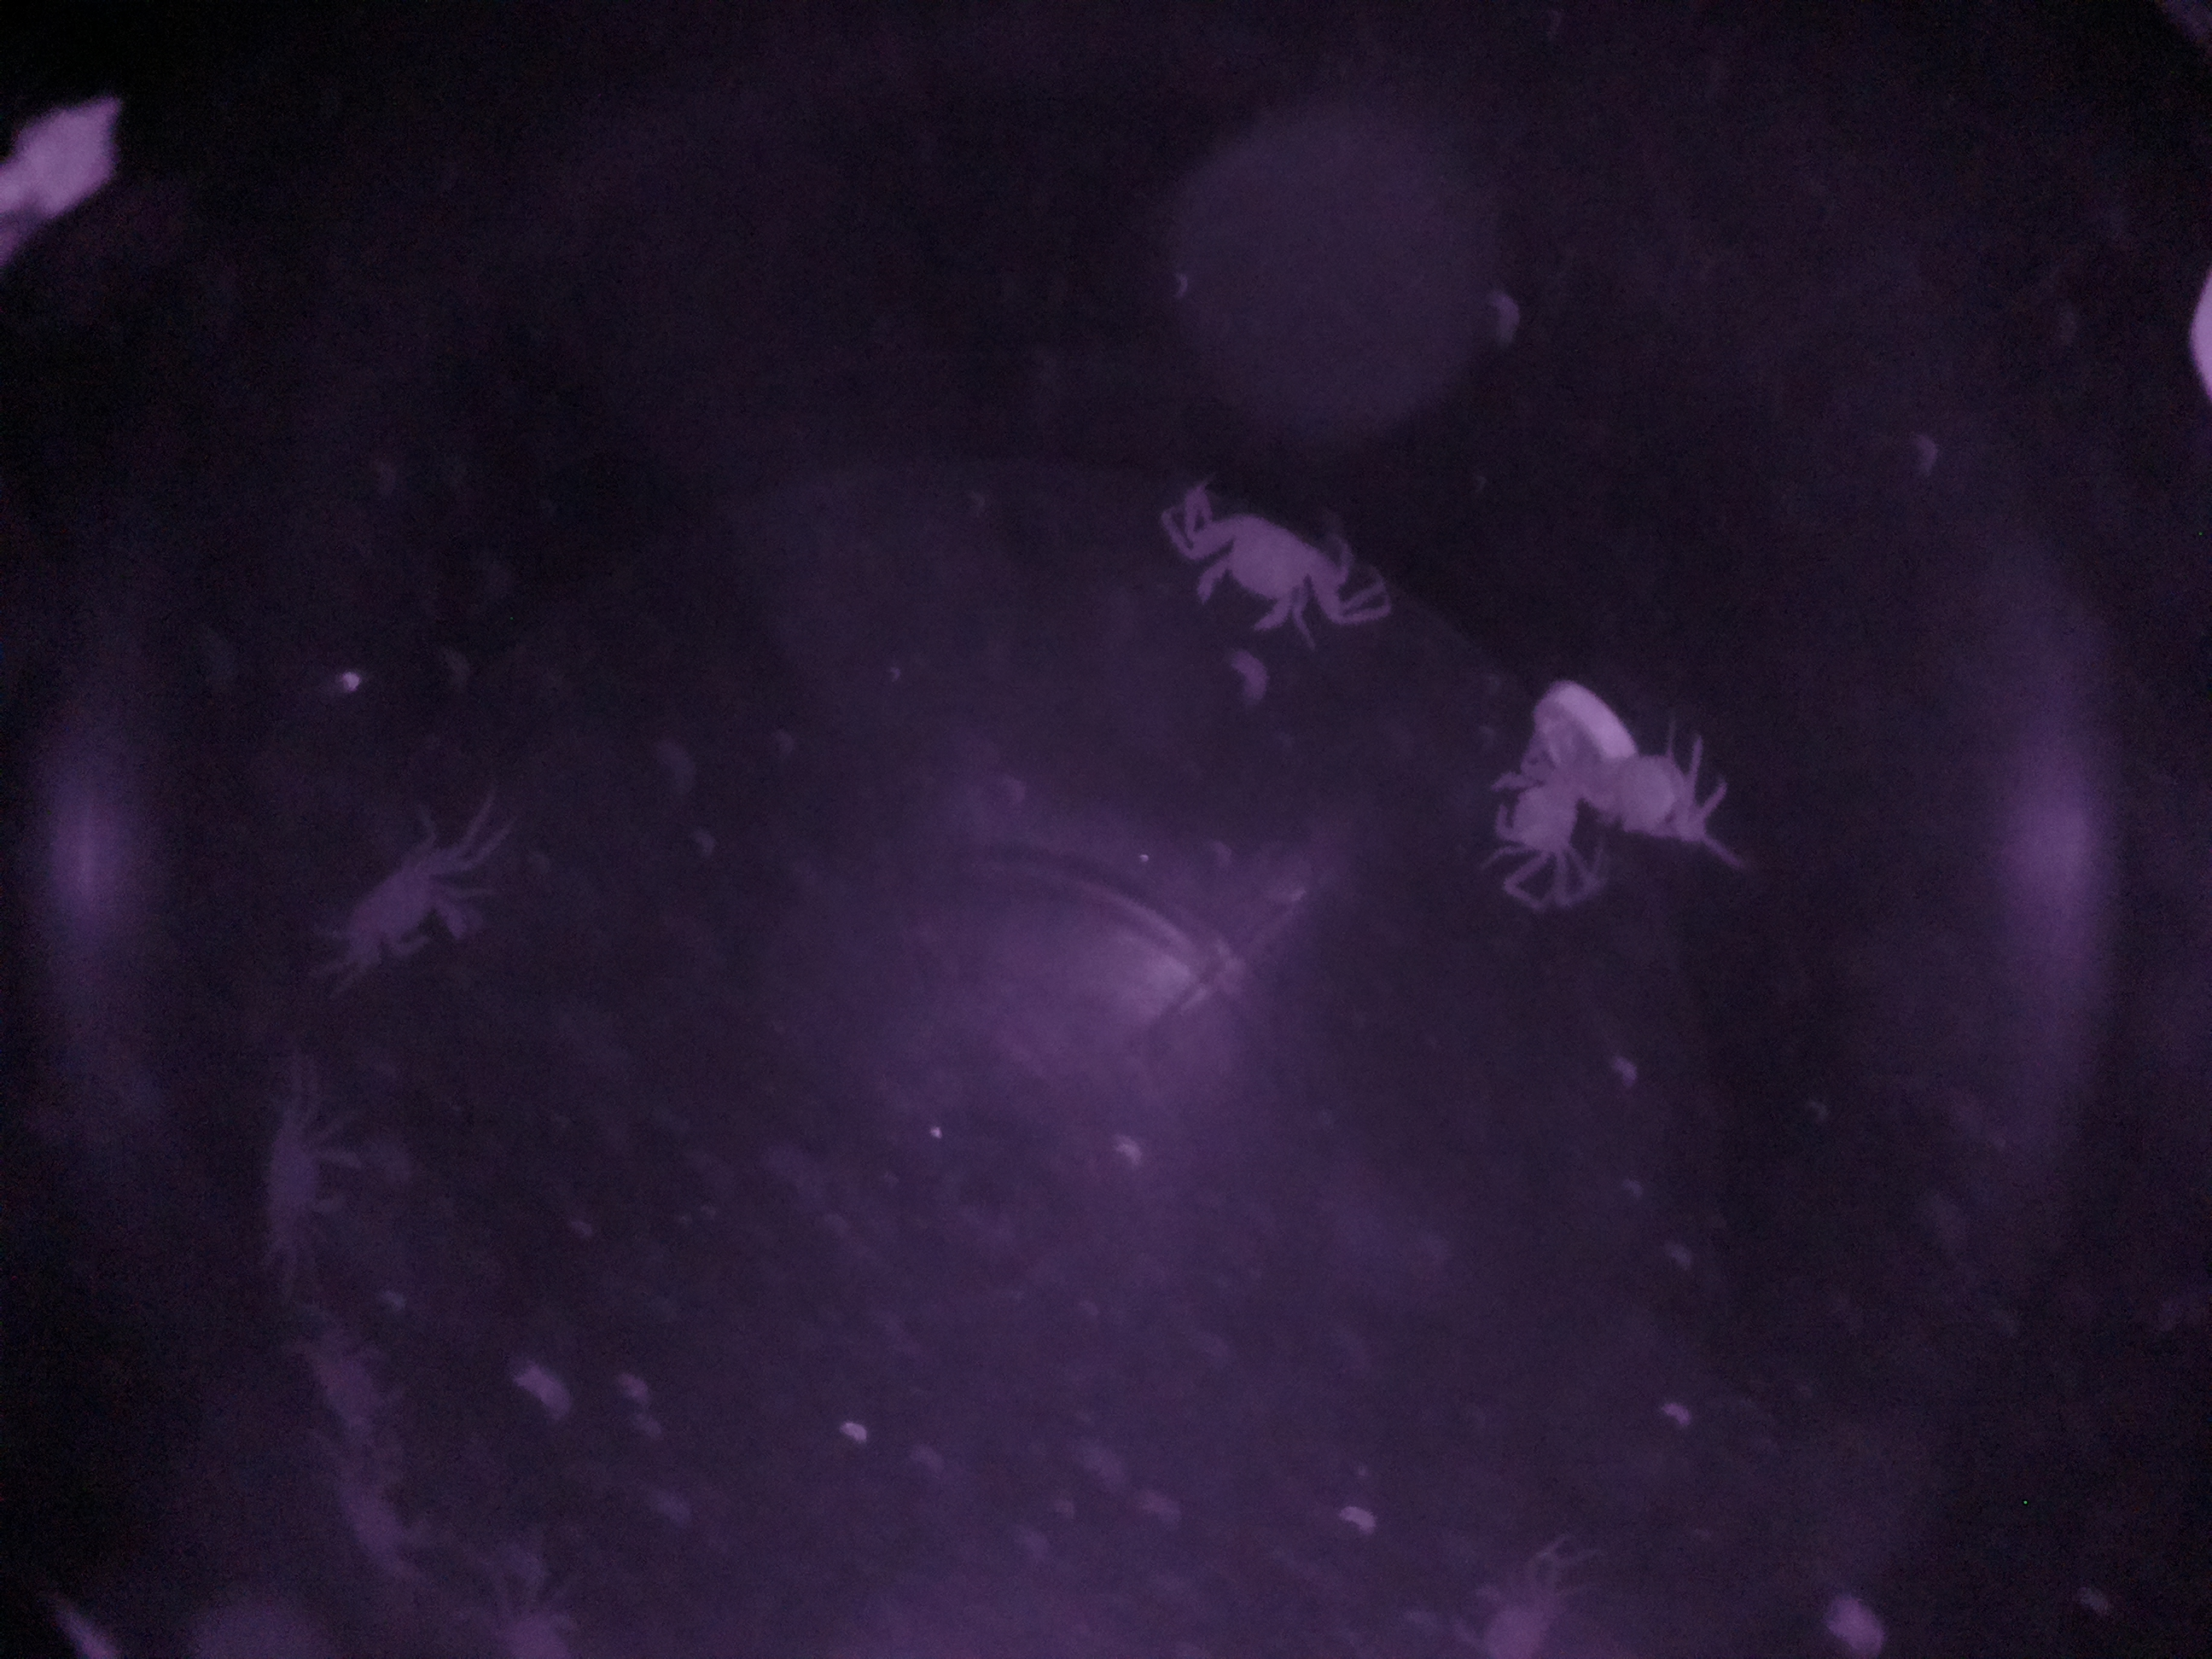Crab: (1153, 472, 1378, 662), (275, 824, 524, 993), (239, 1077, 383, 1262)
